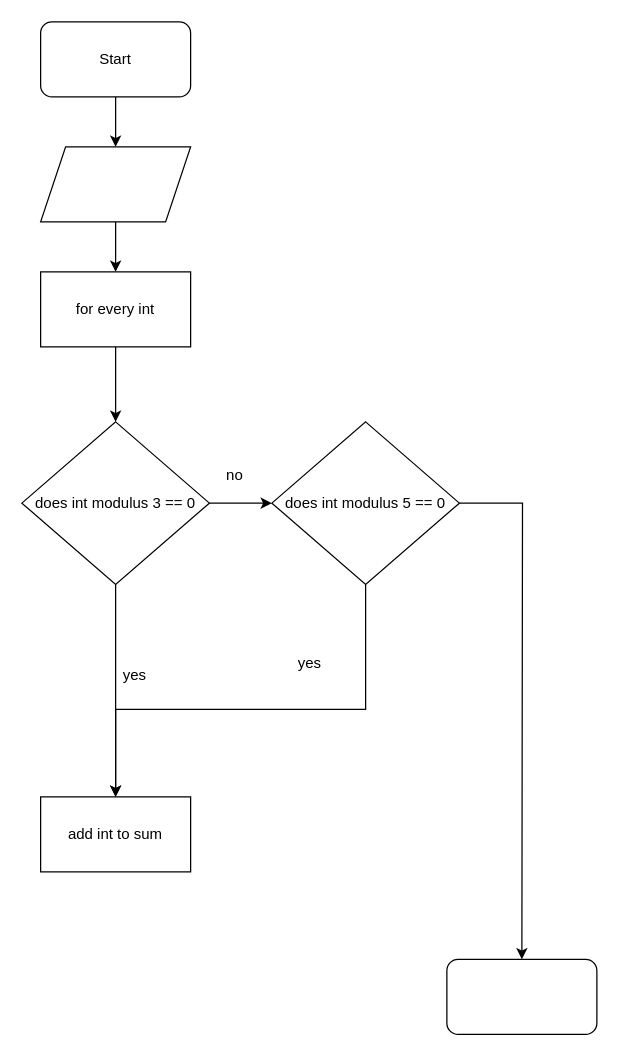
The diagram is 619 pixels wide and 1056 high, and some of its shapes have lost their labels. Here are the shapes that lost their labels. From the top down, the centre of each, then its label:
the point at 115,184: ints 3-999
the point at 521,996: End
